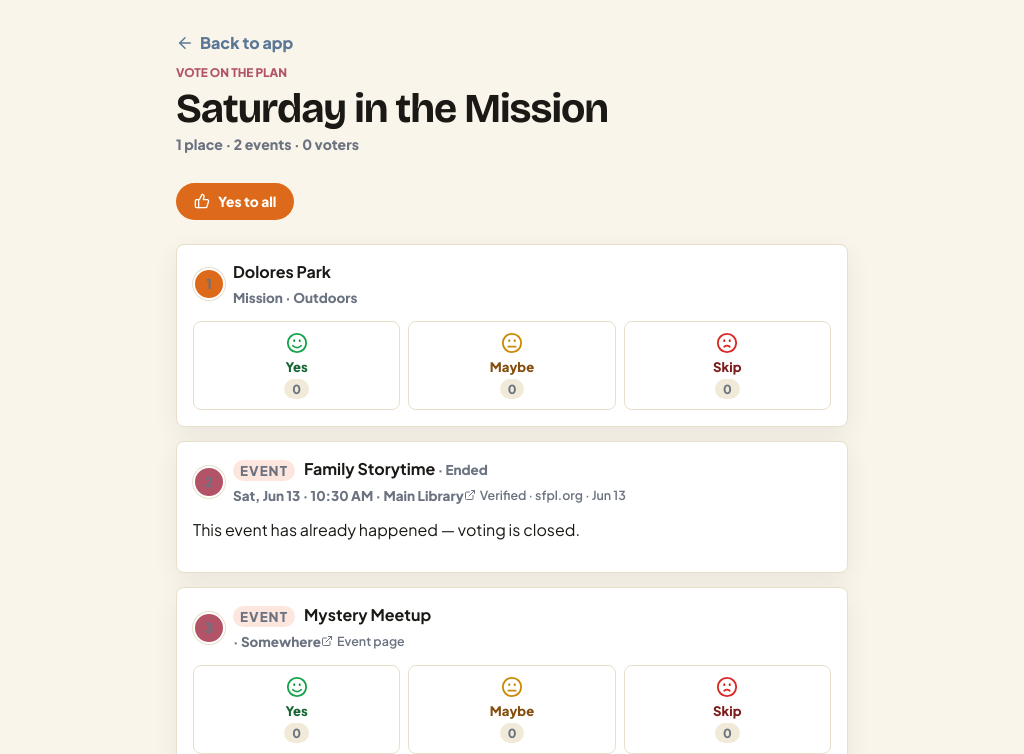
Test: PollView › mounts the digest signup only after a vote is cast
This screenshot has width=1024, height=754.
Expected: the heading "Saturday in the Mission" is shown, [176,84,608,133]
Expected: the text "get 5 family things to do every friday" is not shown
Click the button "Yes to all". click: (235, 202)
box: [176,183,294,220]
(page scrolled)
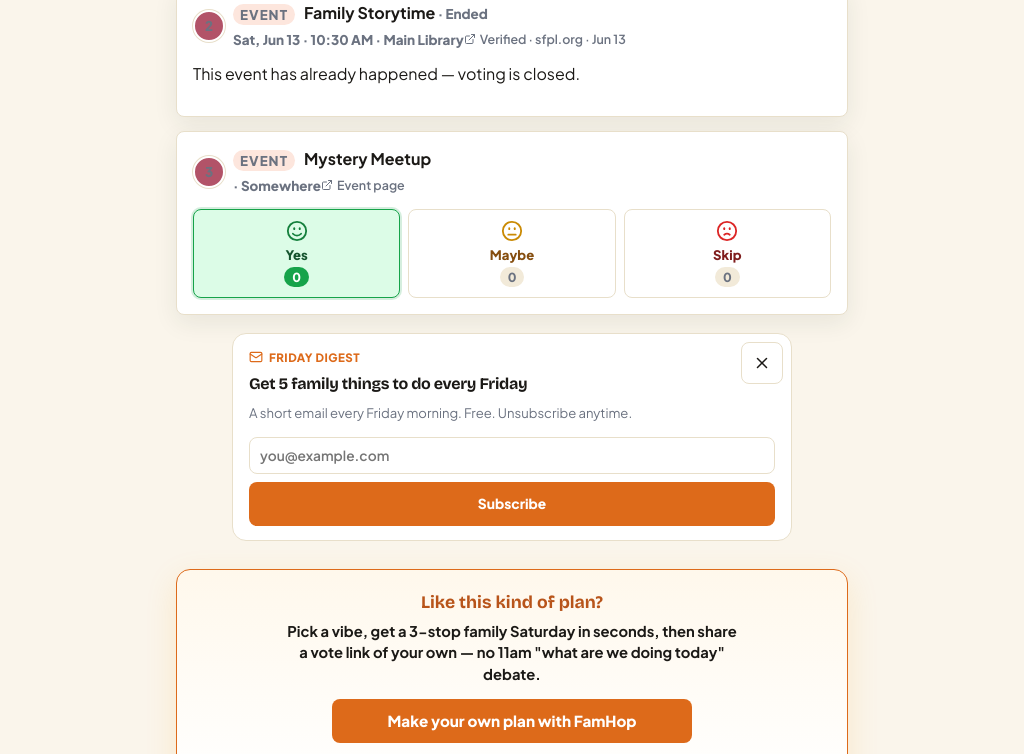
Expected: the heading "Get 5 family things to do every Friday" is shown, [249,374,527,394]
